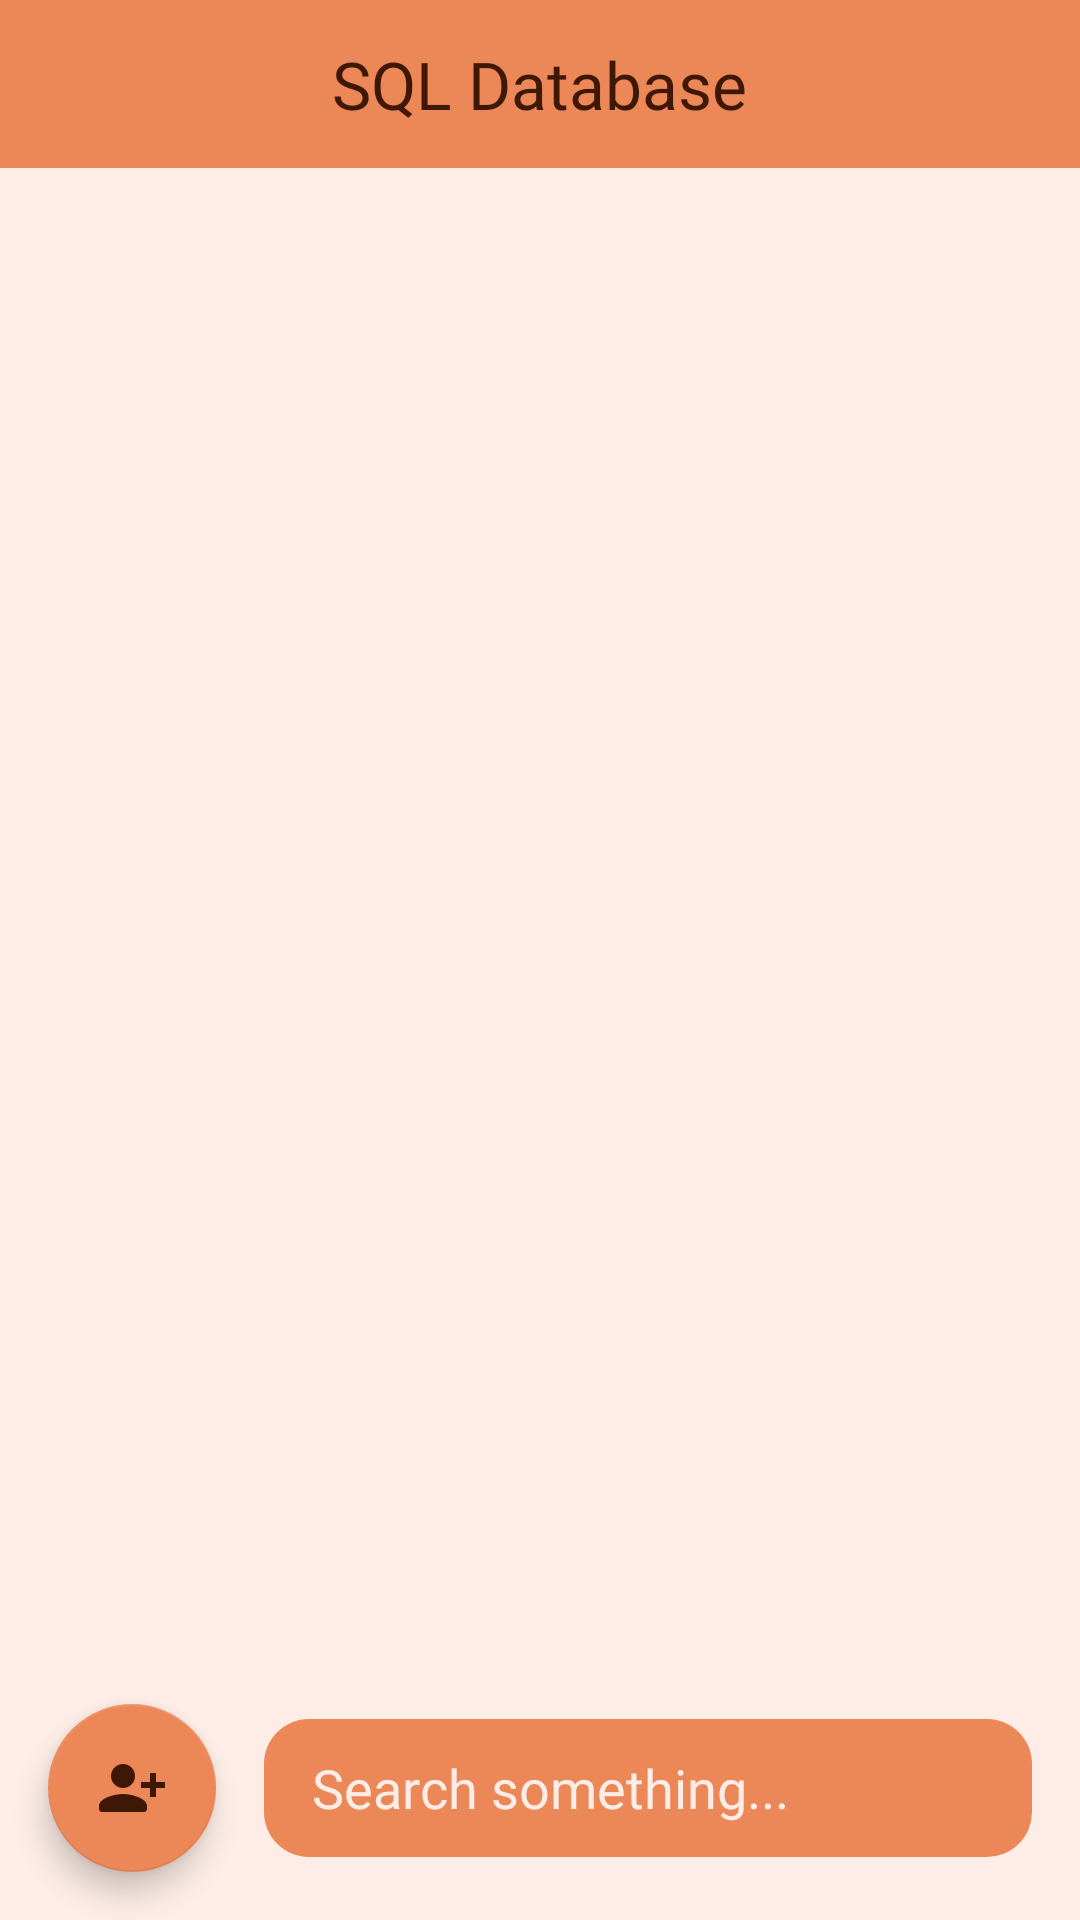

Named icons in this screenshot (1080 × 1920) and their centers, (x,y):
add person: (132,1788)
